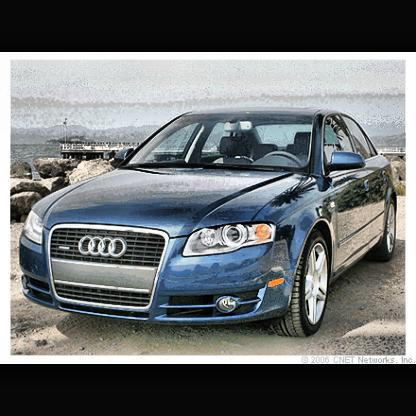Audi S4 Sedan 2007: (20, 111, 399, 342)
